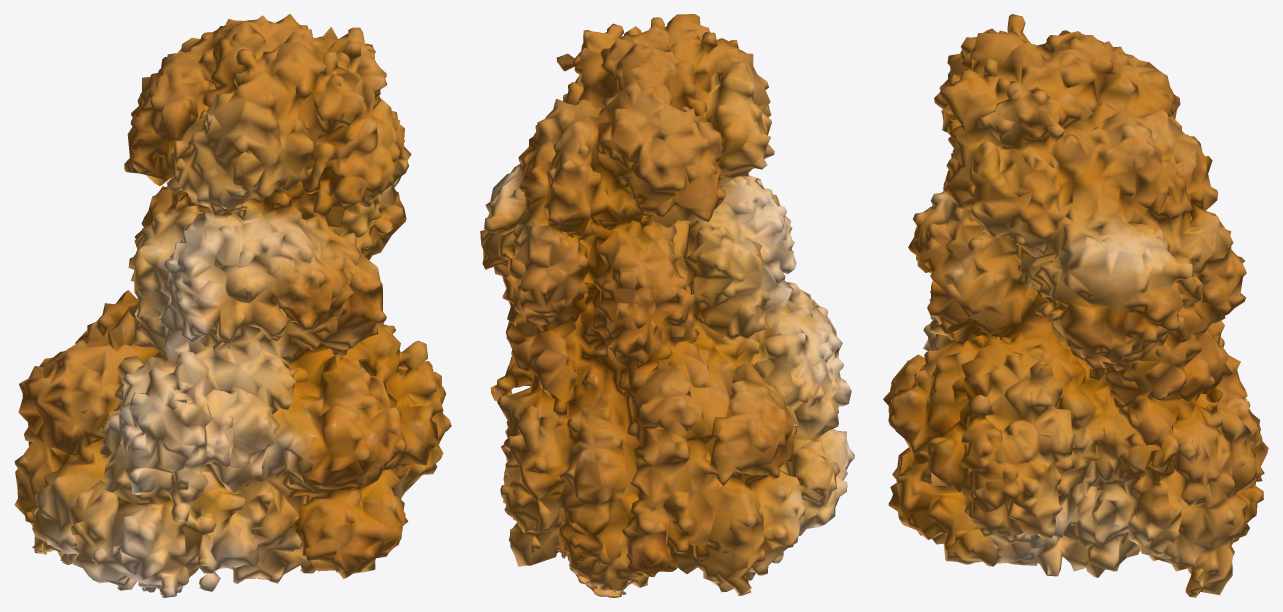
File: bk-decor-crumble-cluster.glb
3 renders of one model, left to right at view 1: azimuth 30°, elevation 25°; view 2: azimuth 150°, elevation 25°; view 3: azimuth 270°, elevation 25°, orthographic. The views are drawn at different scales.
Visible parts, largest first — view 1: node_0; view 2: node_0; view 3: node_0.
Boxes of the visible parts, bbox=[...] form: node_0: bbox=[14, 14, 451, 597]; node_0: bbox=[480, 14, 854, 597]; node_0: bbox=[883, 14, 1268, 597].
Size of the model in its own units: 0.6966 by 1.06 by 0.6839.
1 material, 1 textured.
